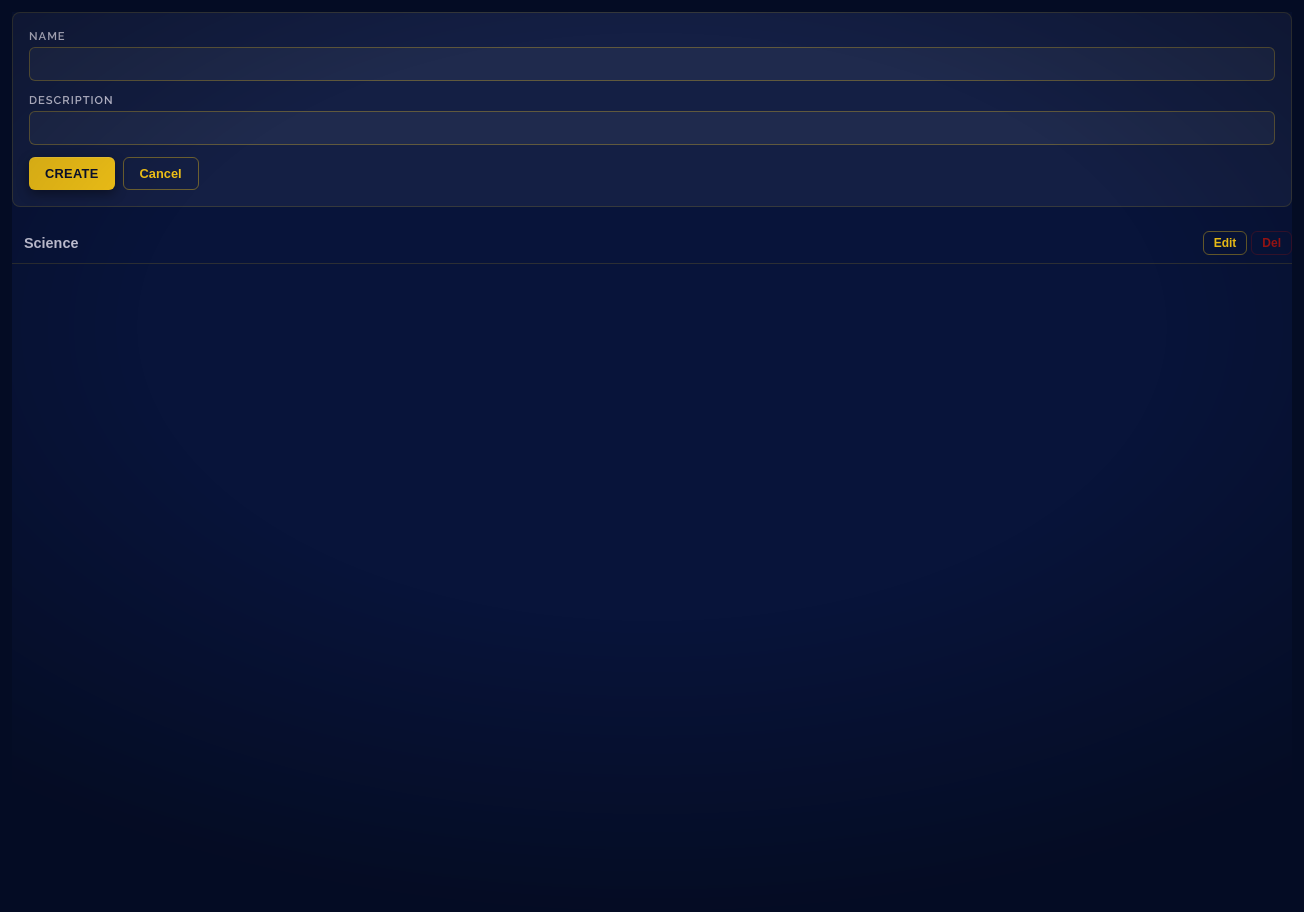
Test case: CategoryManagerComponent › clicking the Cancel button hides the form
What coordinates should you click on to do the following:
click the button with class "btn--ghost" showing "Cancel"
I would click on:
 (161, 174)
Its box is [123,157,199,190].
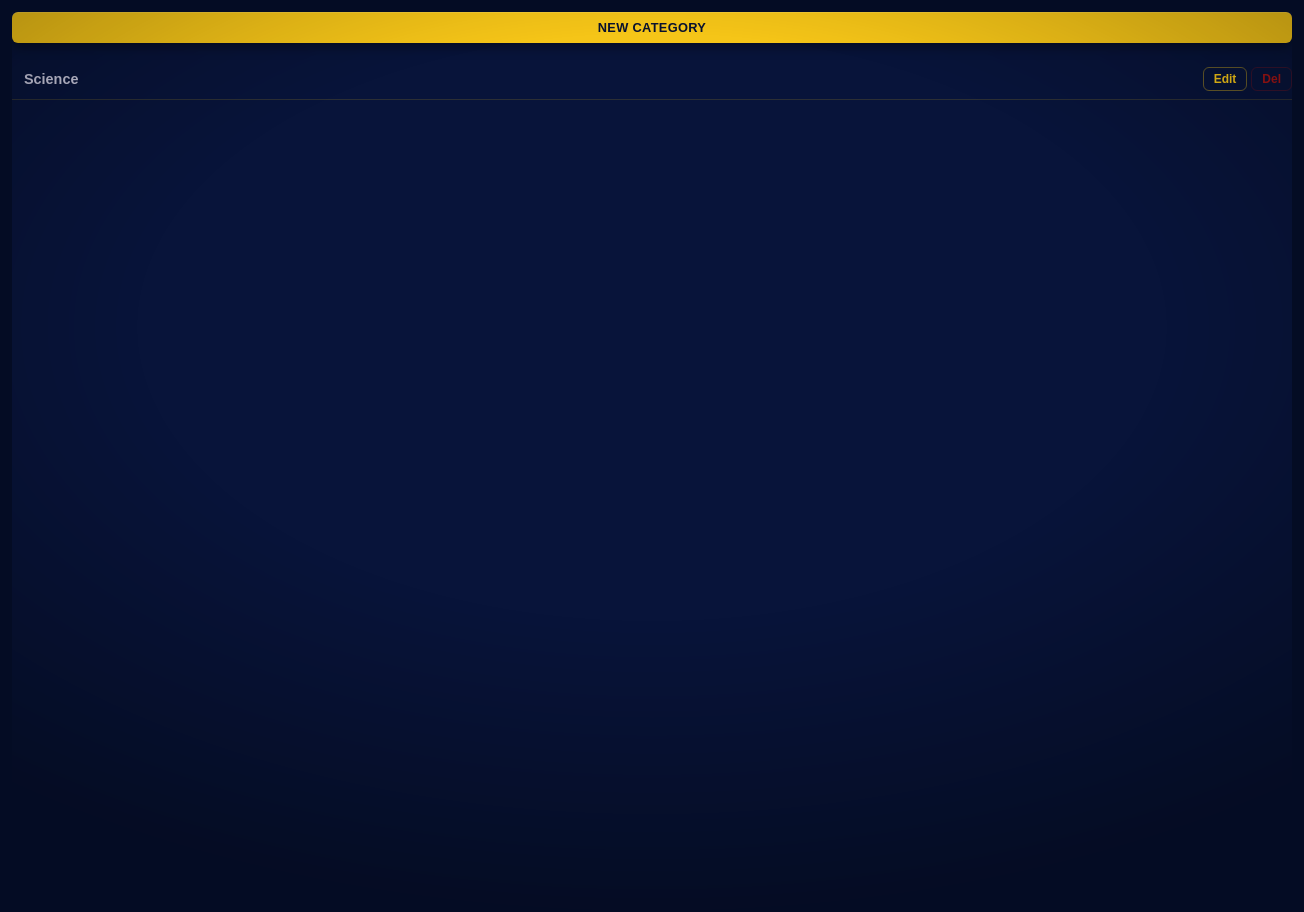
Result: the form with class "cat-form" is gone
